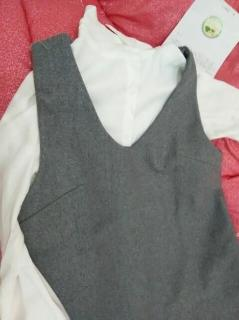long sleeve top: (1, 5, 239, 319)
vest: (17, 33, 239, 319)
